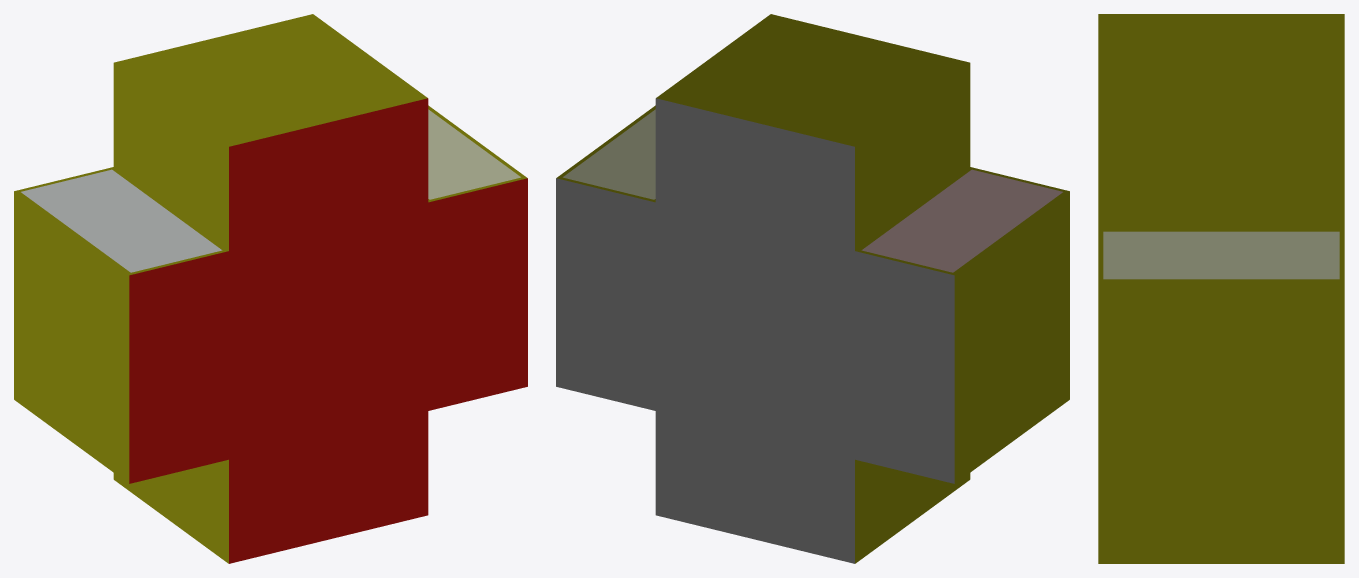
The model's file is idf.obj.
3 views of the same model, side by side, from view 1: azimuth 30°, elevation 25°; view 2: azimuth 150°, elevation 25°; view 3: azimuth 270°, elevation 25° (orthographic). The views are drawn at different scales.
Size of the model in its own units: 20 by 20 by 10.
